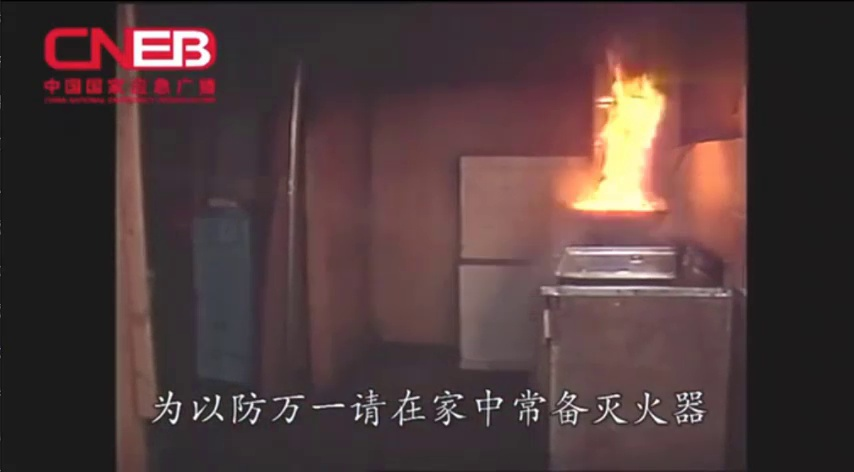fire: (551, 34, 687, 219)
